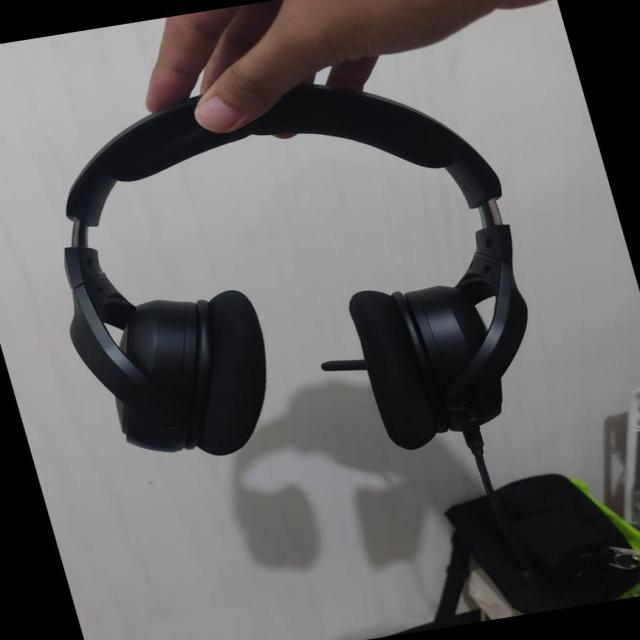earphone: (27, 64, 623, 503)
